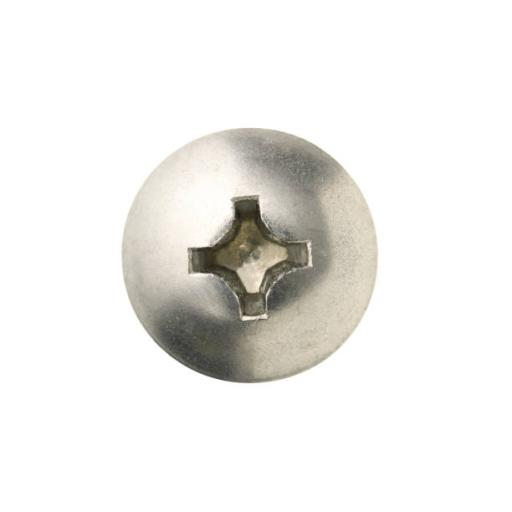Phillips: (123, 123, 380, 388)
